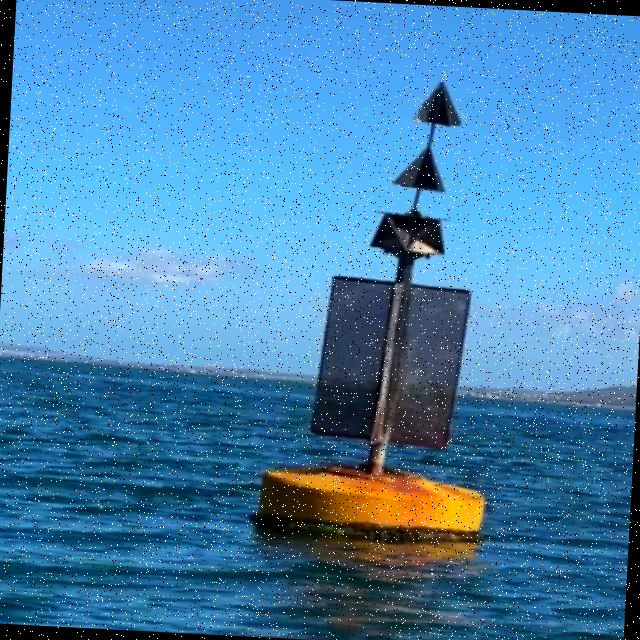marque: (257, 68, 510, 562)
